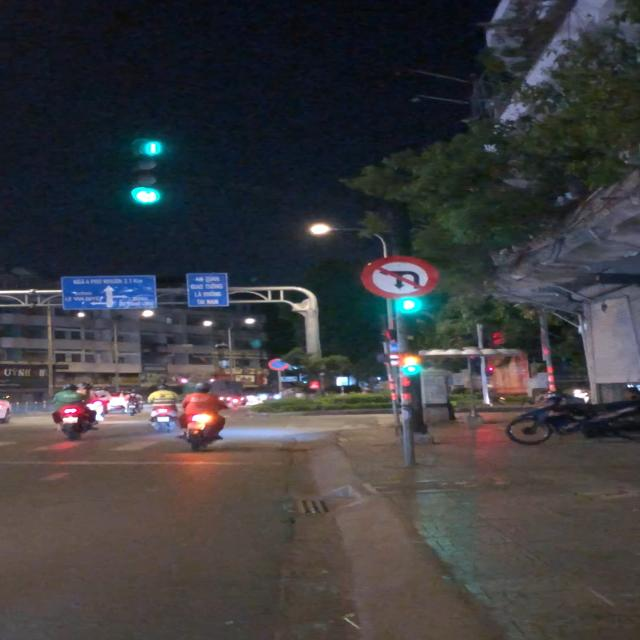Bien bao cam re trai va quay dau: (359, 254, 443, 300)
